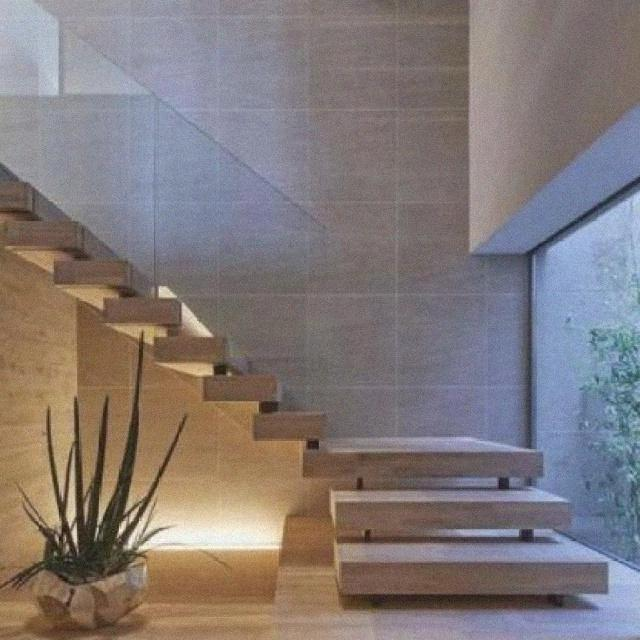stair: (0, 43, 639, 638)
